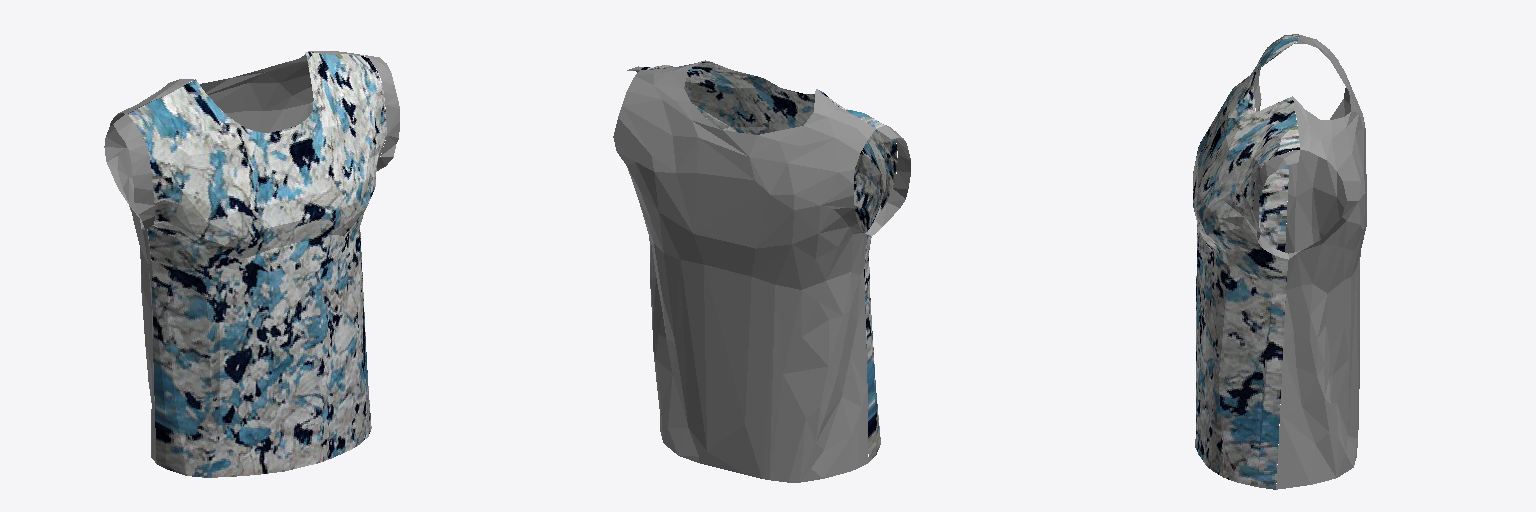
The picture shows the model from 3 angles: view 1: azimuth 30°, elevation 25°; view 2: azimuth 150°, elevation 25°; view 3: azimuth 270°, elevation 25°; orthographic projection.
Visible parts, largest first — view 1: T_shirt; view 2: T_shirt; view 3: T_shirt.
Boxes of the visible parts, <box> form: T_shirt: <box>104,51,399,477</box>; T_shirt: <box>613,60,910,482</box>; T_shirt: <box>1193,34,1366,489</box>.
Size of the model in its own units: 0.2935 by 0.3892 by 0.1639.
2 materials, 1 textured.